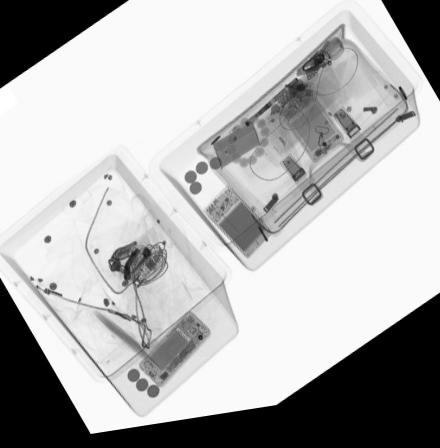Lighter: (275, 96, 299, 121)
